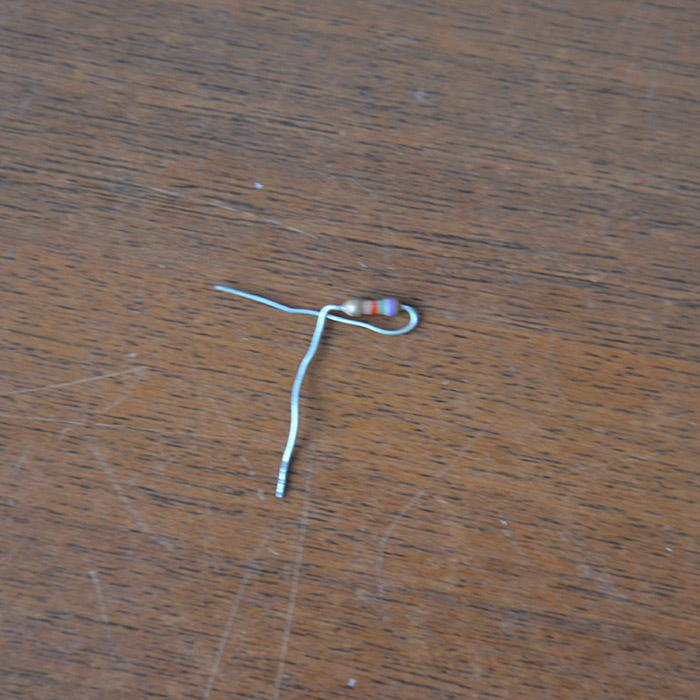resistor: (339, 296, 399, 318)
